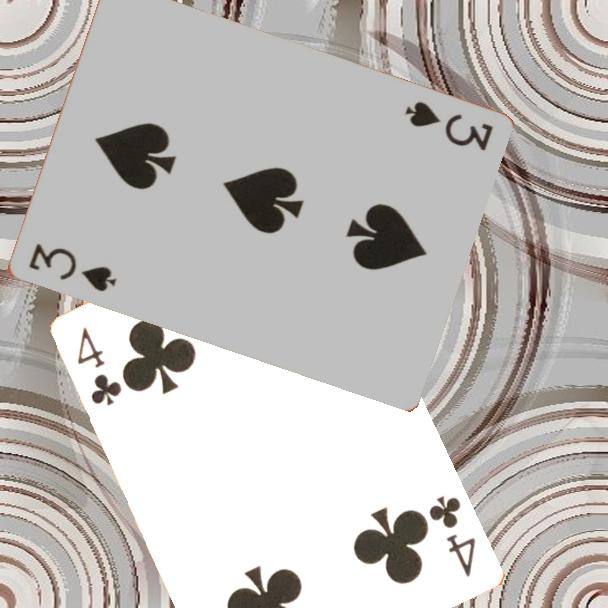c04: (426, 492, 480, 580), (74, 323, 125, 409)
s03: (401, 98, 496, 154), (24, 240, 120, 295)
